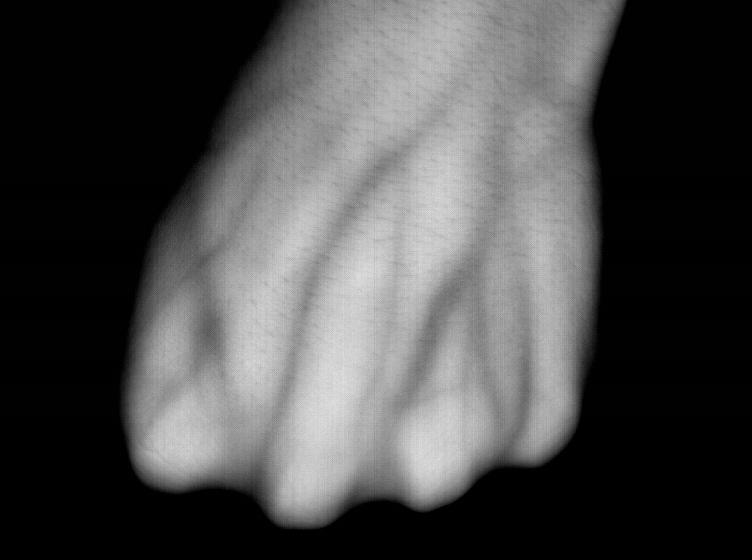Vein: (290, 140, 415, 351), (404, 203, 498, 390)
